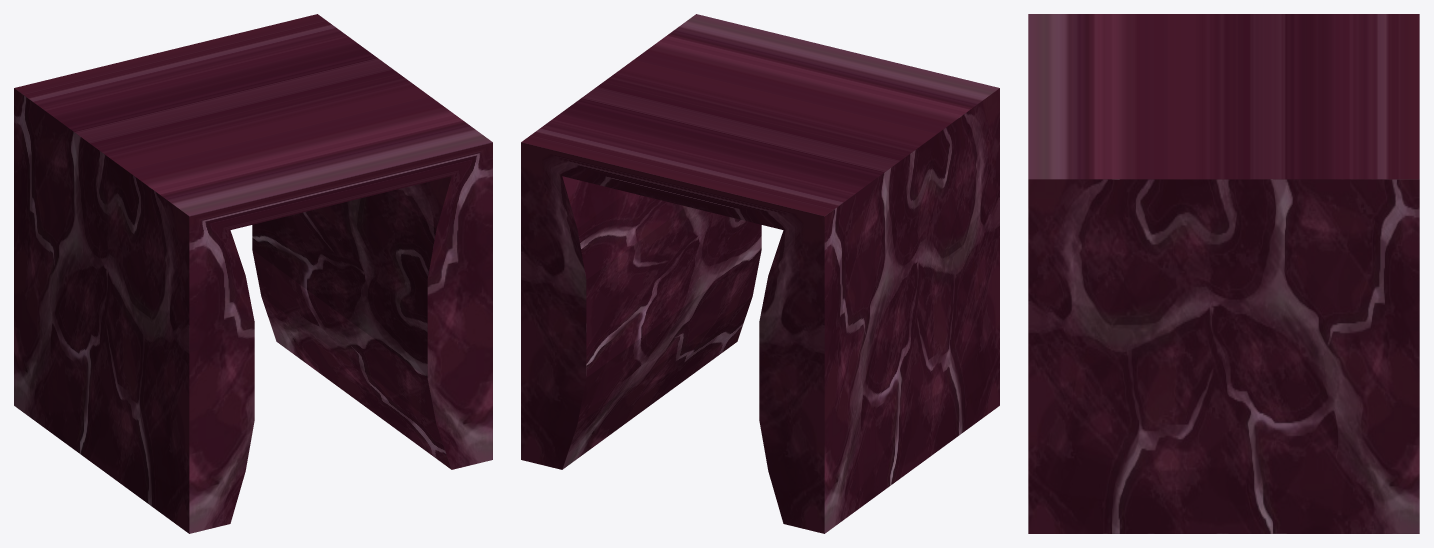
File: EspacioPornoScrollTunelBajoNI.gltf
The picture shows the model from 3 angles, left to right: view 1: azimuth 30°, elevation 25°; view 2: azimuth 150°, elevation 25°; view 3: azimuth 270°, elevation 25°; orthographic projection. The views are drawn at different scales.
Parts seen in each view (by area): view 1: Cubo.31; view 2: Cubo.31; view 3: Cubo.31.
Part boxes in pixels (<box>): Cubo.31: <box>14,14,492,533</box>; Cubo.31: <box>521,14,999,533</box>; Cubo.31: <box>1028,14,1419,533</box>.
Bounding box in the file's own units: 2 × 2 × 2.
1 material, 1 textured.
